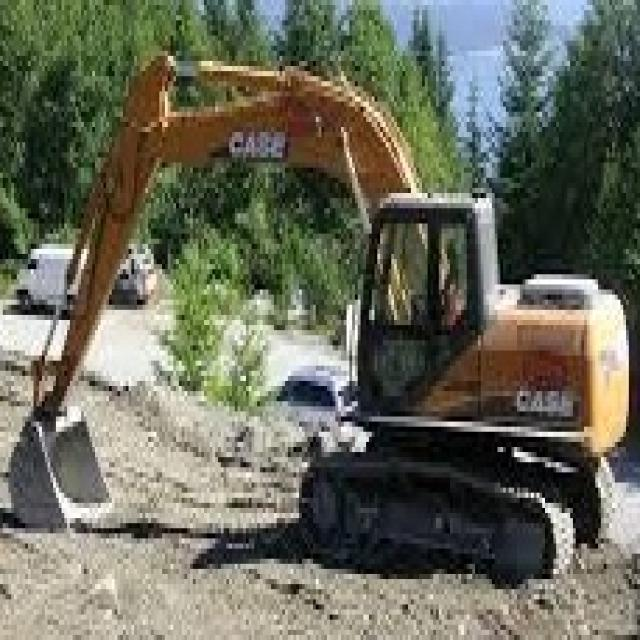excavator: (300, 190, 634, 564)
